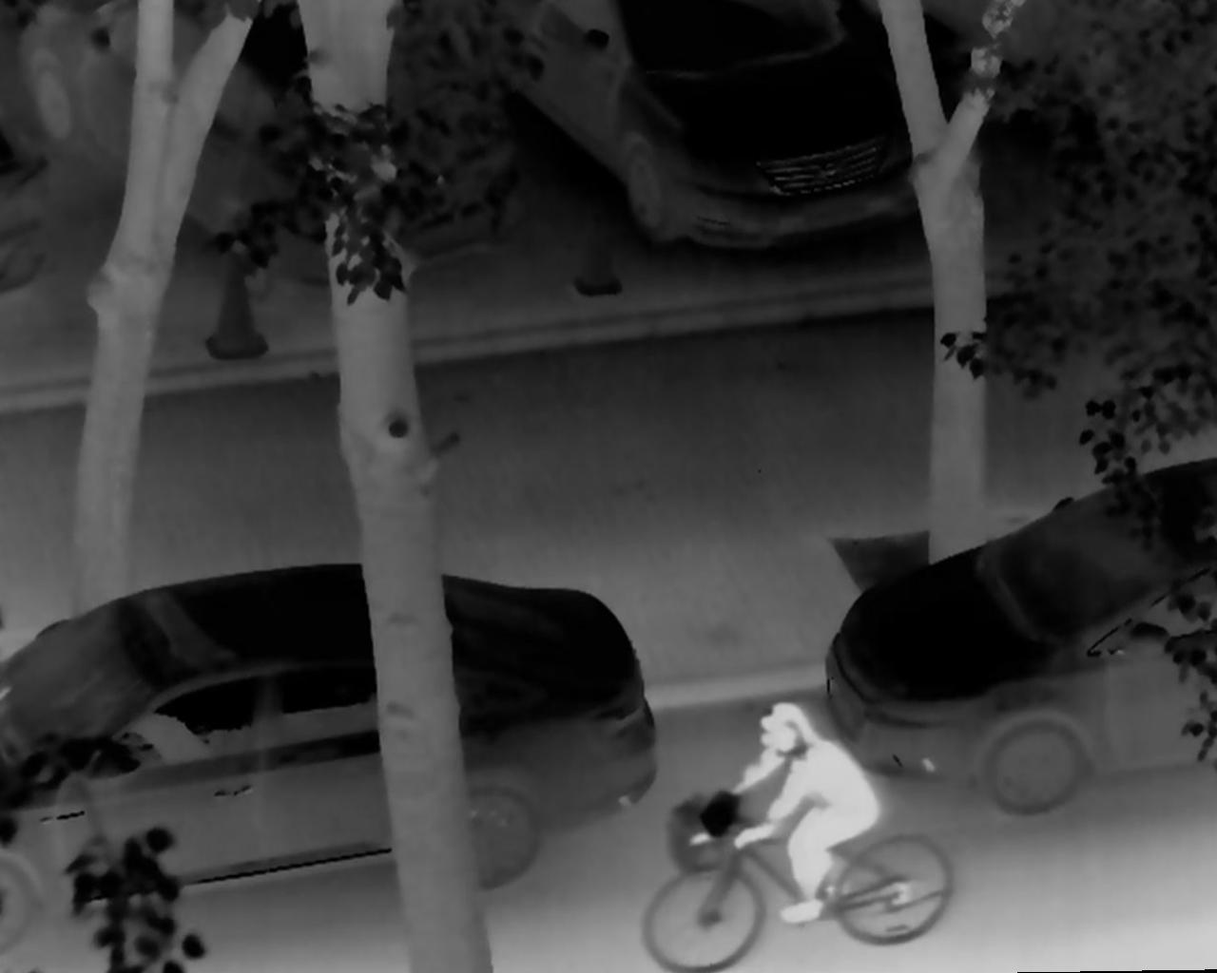person: (715, 696, 878, 924)
